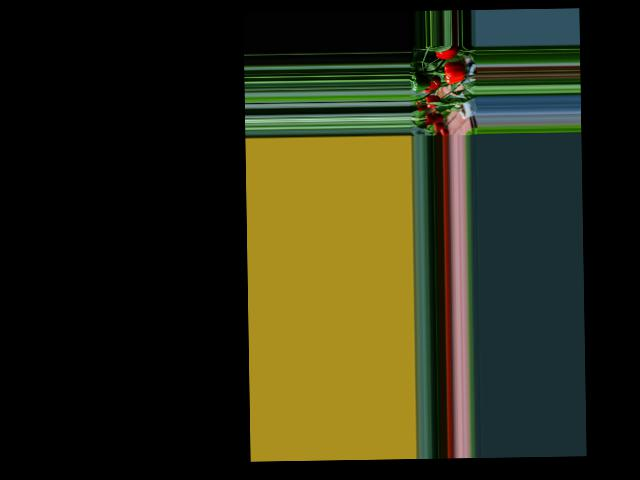bell_pepper: (422, 95, 444, 109)
